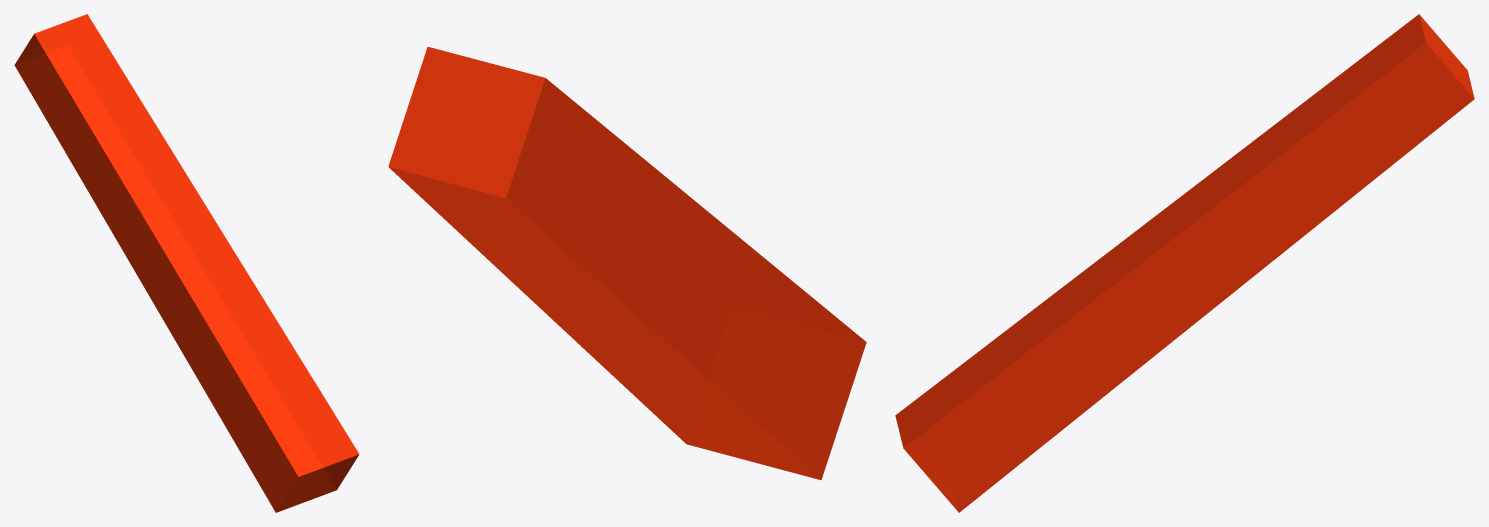
The model's file is Event_421278790_EBrechit_2.fbx.
The picture shows the model from 3 angles, left to right: view 1: azimuth 30°, elevation 25°; view 2: azimuth 150°, elevation 25°; view 3: azimuth 270°, elevation 25°; orthographic projection. The views are drawn at different scales.
Parts seen in each view (by area): view 1: Model; view 2: Model; view 3: Model.
Boxes of the visible parts, x1,y1,x2,y2 form: Model: (14,14,359,512); Model: (388,47,866,480); Model: (895,14,1474,512).
Size of the model in its own units: 0.1159 by 0.3403 by 0.4061.
